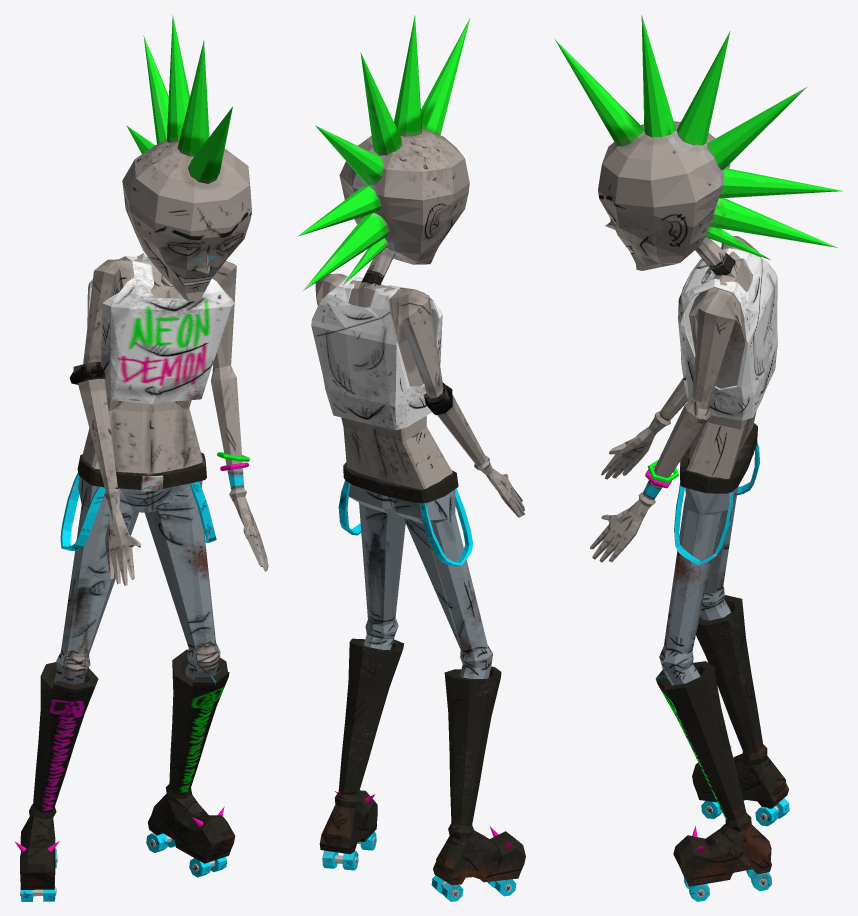
File: punkAnimation_000058.obj
3 renders of one model, left to right at view 1: azimuth 30°, elevation 25°; view 2: azimuth 150°, elevation 25°; view 3: azimuth 270°, elevation 25°, orthographic. The views are drawn at different scales.
Parts seen in each view (by area): view 1: Cube.004_Cube.003; view 2: Cube.004_Cube.003; view 3: Cube.004_Cube.003.
Boxes of the visible parts, bbox=[...] form: Cube.004_Cube.003: bbox=[14, 14, 268, 901]; Cube.004_Cube.003: bbox=[297, 15, 525, 901]; Cube.004_Cube.003: bbox=[555, 15, 842, 901].
Bounding box in the file's own units: 1.98 × 7.5 × 2.28.
